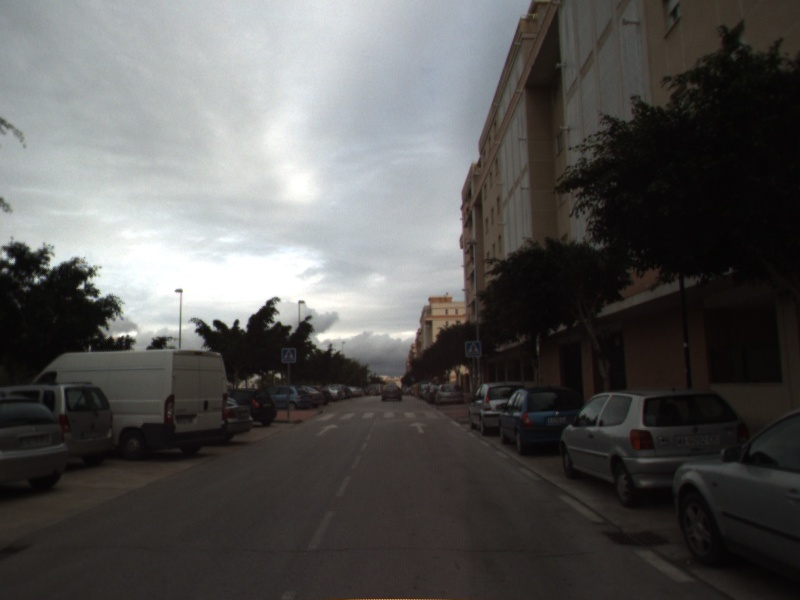STRAIGHT: (314, 422, 341, 438), (407, 420, 430, 435)
